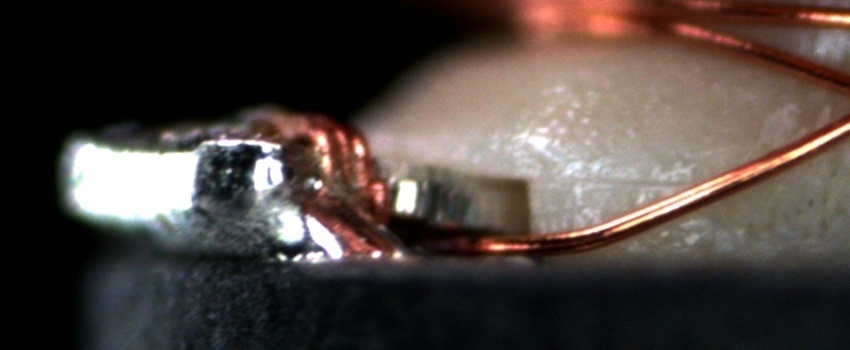DL: (569, 159, 698, 214)
TE: (242, 108, 392, 229)
